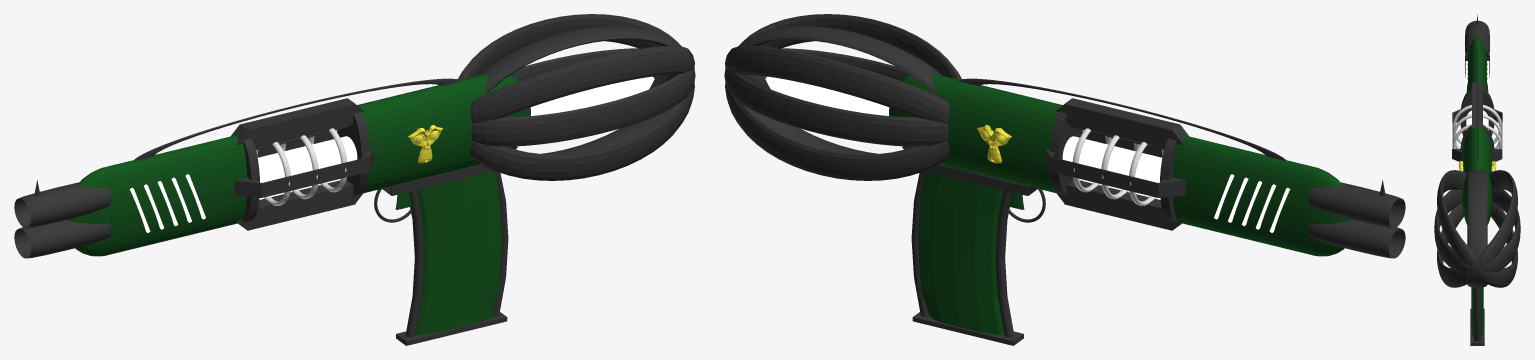
Rendered from gun_green02.glb.
3 views of the same model, side by side, from view 1: azimuth 30°, elevation 25°; view 2: azimuth 150°, elevation 25°; view 3: azimuth 270°, elevation 25° (orthographic). The views are drawn at different scales.
Parts seen in each view (by area): view 1: Torus.008, Cylinder, Torus.012, Cylinder.004, Torus.013, Torus.011, Torus.014, Cube.004, Torus.001, Torus.006, Cube.005, Cylinder.001 (+11 smaller); view 2: Torus.008, Cylinder, Torus.011, Cylinder.004, Torus.013, Torus.012, Torus.014, Cube.004, Torus.001, Torus.006, Cube.005, Cylinder.001 (+11 smaller); view 3: Torus.011, Torus.012, Torus.013, Torus.014, Cylinder.004, Cylinder, Torus.001, Cylinder.002, Sphere.004, Cube.004, Torus.010, Torus.008 (+11 smaller).
Boxes of the visible parts, box(x1,y1,x2,y2) form: Torus.008: box(415, 165, 501, 334); Cylinder: box(102, 135, 247, 255); Torus.012: box(458, 14, 694, 180); Cylinder.004: box(357, 74, 495, 192); Torus.013: box(471, 48, 695, 146); Torus.011: box(470, 45, 694, 123); Torus.014: box(478, 26, 682, 154); Cube.004: box(240, 98, 355, 148); Torus.001: box(14, 182, 111, 227); Torus.006: box(14, 220, 111, 258); Cube.005: box(247, 180, 355, 230); Cylinder.001: box(257, 136, 357, 182); Torus.008: box(918, 165, 1004, 334); Cylinder: box(1172, 135, 1317, 255); Torus.011: box(725, 14, 961, 180); Cylinder.004: box(924, 74, 1062, 192); Torus.013: box(724, 48, 948, 146); Torus.012: box(725, 45, 949, 123); Torus.014: box(737, 26, 941, 154); Cube.004: box(1064, 98, 1179, 148); Torus.001: box(1308, 182, 1405, 227); Torus.006: box(1308, 220, 1405, 258); Cube.005: box(1064, 180, 1172, 230); Cylinder.001: box(1062, 136, 1162, 182); Torus.011: box(1437, 170, 1517, 287); Torus.012: box(1437, 170, 1517, 287); Torus.013: box(1434, 189, 1520, 272); Torus.014: box(1467, 169, 1487, 287); Cylinder.004: box(1462, 126, 1492, 197); Cylinder: box(1466, 40, 1488, 92); Torus.001: box(1464, 20, 1490, 60); Cylinder.002: box(1460, 88, 1494, 135); Sphere.004: box(1462, 179, 1492, 224); Cube.004: box(1472, 82, 1482, 119); Torus.010: box(1474, 288, 1480, 341); Torus.008: box(1471, 287, 1483, 336).
Size of the model in its own units: 0.2404 by 0.0911 by 0.0388.
